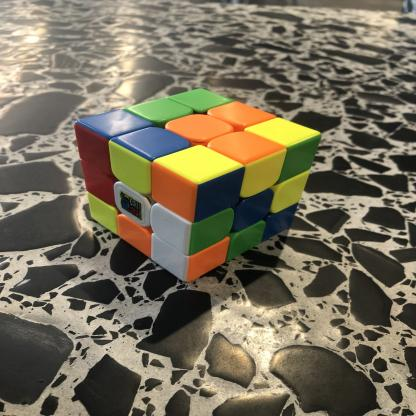UnsolvedCube: (74, 82, 326, 282)
